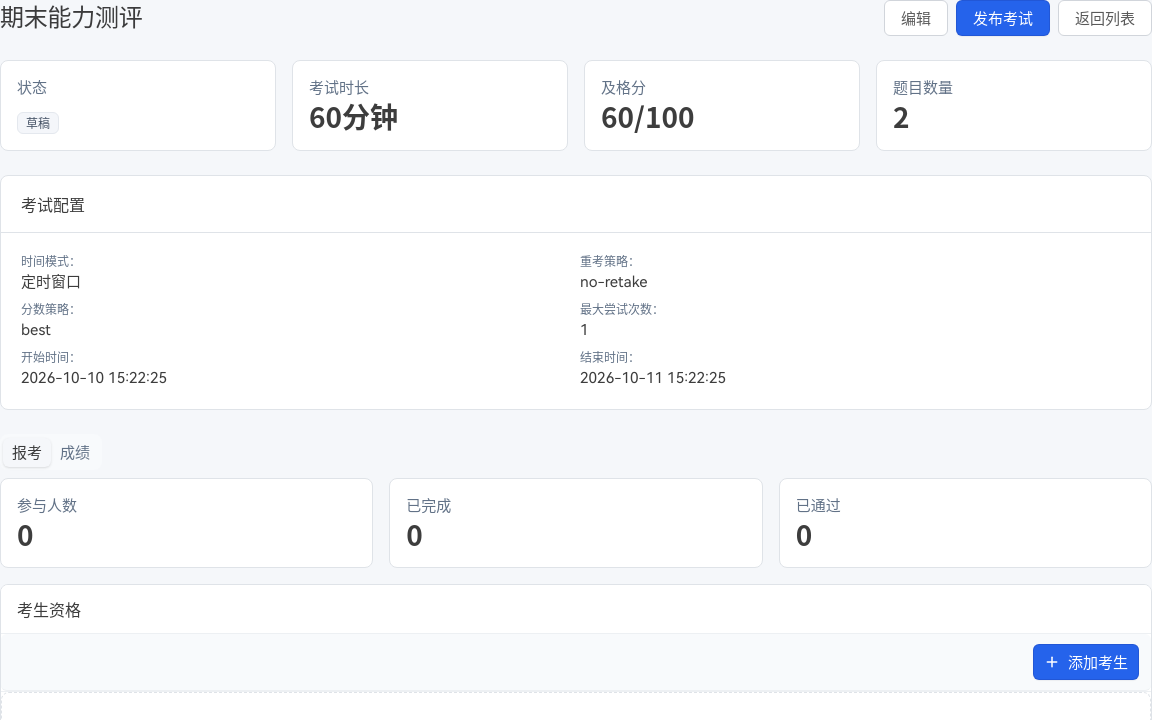
Test: ExamDetailPage › scores tab › shows scores tab content with link to score list
Click the tab "成绩" at (75, 452), box [51,438,99,466]
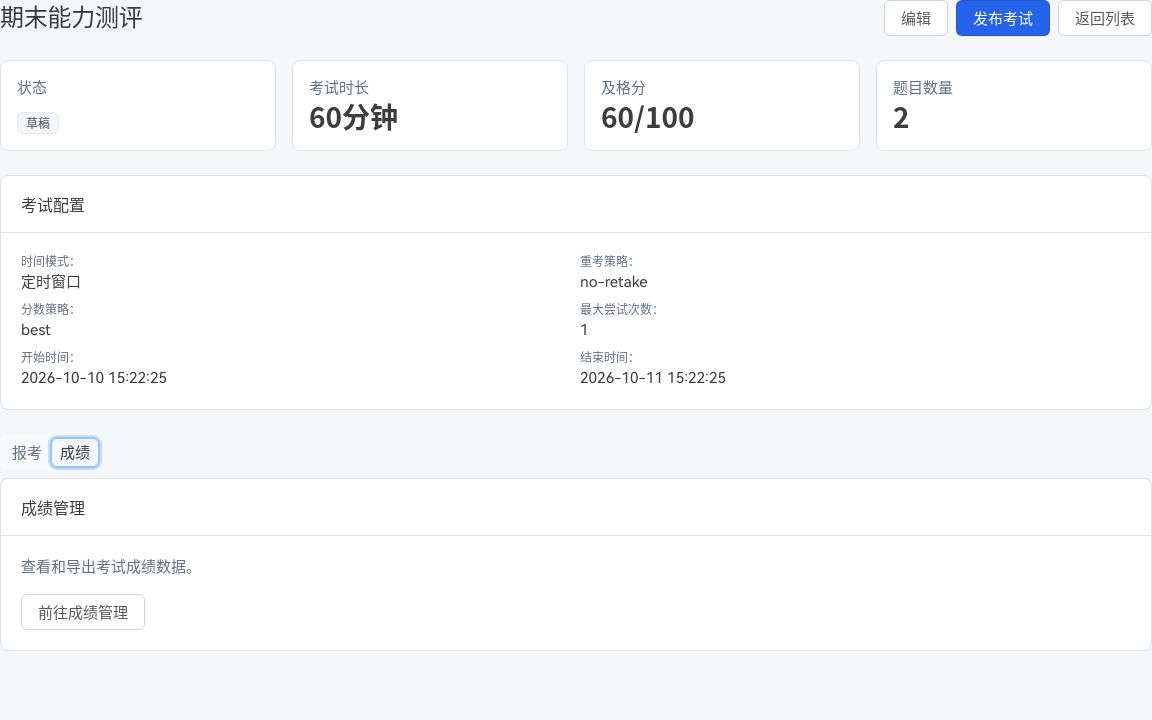
Expected: the heading "成绩管理" is shown, [21,495,85,519]
